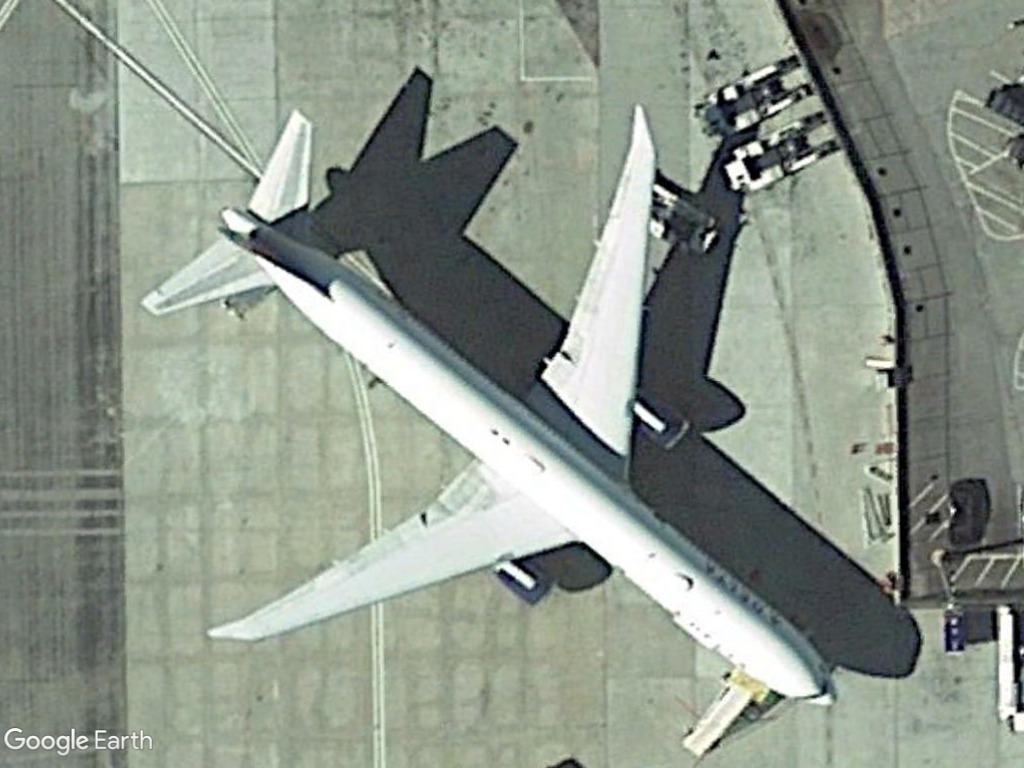airliner: (150, 102, 842, 713)
pushbacktruck: (719, 109, 849, 196), (698, 58, 809, 136)
stairtruck: (677, 672, 759, 764)
